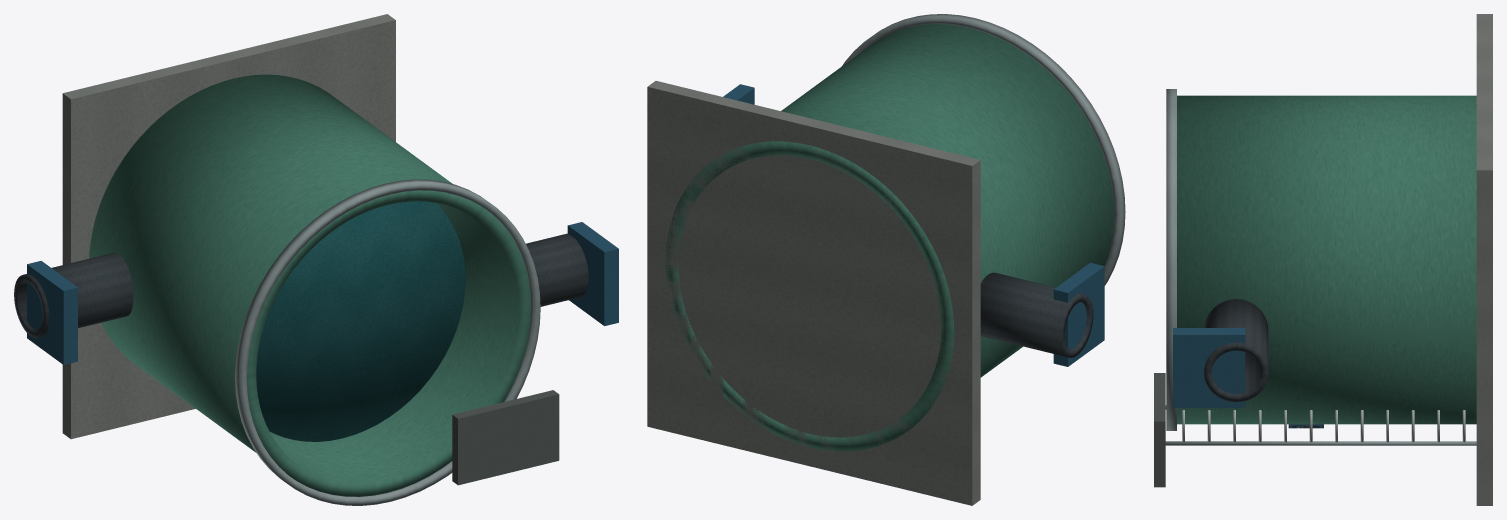
The model's file is PZ_WWT_08_Biofilter_Tank_4m.glb.
3 views of the same model, side by side, from view 1: azimuth 30°, elevation 25°; view 2: azimuth 150°, elevation 25°; view 3: azimuth 270°, elevation 25° (orthographic).
Parts seen in each view (by area): view 1: BIO_Tank_Shell, BIO_Treated_Water_Surface, BIO_Base_Pad, BIO_Rim, BIO_Service_Platform, BIO_DN600_Outlet_Connection, BIO_Pipe_Collar_-3.06, BIO_Pipe_Collar_3.11, BIO_DN600_Inlet_Connection; view 2: BIO_Base_Pad, BIO_Tank_Shell, BIO_DN600_Outlet_Connection, BIO_Rim, BIO_Pipe_Collar_-3.06; view 3: BIO_Tank_Shell, BIO_Base_Pad, BIO_Pipe_Collar_3.11, BIO_DN600_Inlet_Connection, BIO_Rim, BIO_Exterior_Ladder_Rail_-1, BIO_Service_Platform.
Boxes of the visible parts, bbox=[...] form: BIO_Tank_Shell: bbox=[89, 74, 531, 496]; BIO_Treated_Water_Surface: bbox=[256, 201, 465, 441]; BIO_Base_Pad: bbox=[62, 14, 395, 439]; BIO_Rim: bbox=[235, 179, 540, 505]; BIO_Service_Platform: bbox=[452, 390, 559, 485]; BIO_DN600_Outlet_Connection: bbox=[14, 253, 133, 338]; BIO_Pipe_Collar_-3.06: bbox=[27, 260, 77, 364]; BIO_Pipe_Collar_3.11: bbox=[567, 222, 618, 326]; BIO_DN600_Inlet_Connection: bbox=[526, 233, 588, 306]; BIO_Base_Pad: bbox=[647, 81, 980, 505]; BIO_Tank_Shell: bbox=[665, 24, 1114, 451]; BIO_DN600_Outlet_Connection: bbox=[980, 272, 1093, 357]; BIO_Rim: bbox=[842, 14, 1125, 285]; BIO_Pipe_Collar_-3.06: bbox=[1053, 262, 1104, 366]; BIO_Tank_Shell: bbox=[1177, 95, 1476, 424]; BIO_Base_Pad: bbox=[1476, 14, 1492, 505]; BIO_Pipe_Collar_3.11: bbox=[1173, 328, 1245, 407]; BIO_DN600_Inlet_Connection: bbox=[1204, 299, 1268, 401]; BIO_Rim: bbox=[1166, 89, 1176, 430]; BIO_Exterior_Ladder_Rail_-1: bbox=[1165, 441, 1476, 445]; BIO_Service_Platform: bbox=[1154, 373, 1165, 487].
Size of the model in its own units: 6.45 by 4.5 by 4.12.
1 material, 1 textured.
